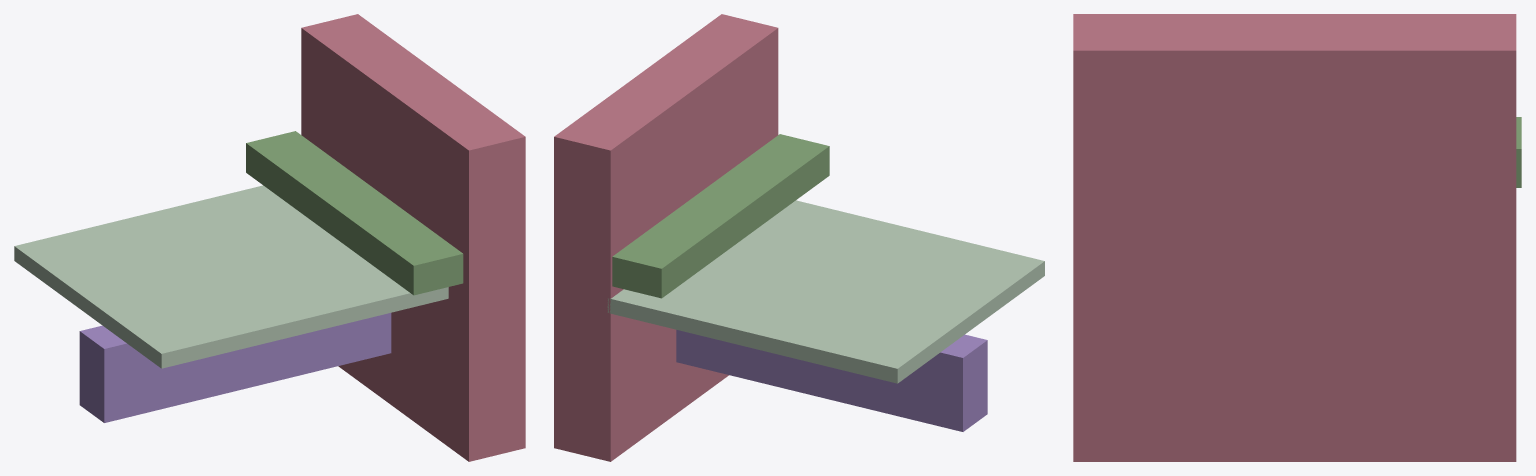
Rendered from 239524_pred.glb.
The picture shows the model from 3 angles, left to right: view 1: azimuth 30°, elevation 25°; view 2: azimuth 150°, elevation 25°; view 3: azimuth 270°, elevation 25°; orthographic projection. The views are drawn at different scales.
Parts seen in each view (by area): view 1: world; view 2: world; view 3: world.
Boxes of the visible parts, x1=… form: world: x1=14, y1=14, x2=525, y2=461; world: x1=554, y1=14, x2=1044, y2=461; world: x1=1073, y1=14, x2=1521, y2=461.
Bounding box in the file's own units: 4.85 × 4.2 × 4.15.
